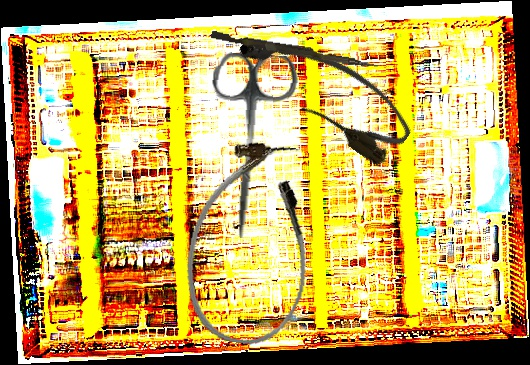Cannula: (175, 134, 326, 352), (230, 7, 422, 172)
Iris Scissors: (200, 51, 300, 241)
Pusher: (210, 30, 380, 70)
